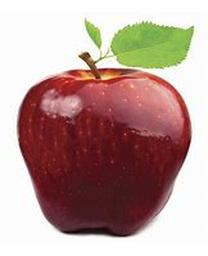apple: (17, 52, 192, 236)
